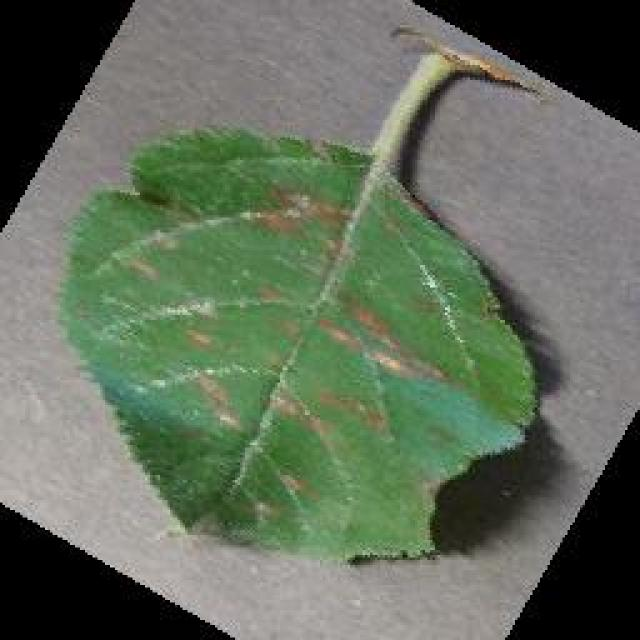apple scab disease: (55, 25, 545, 565)
